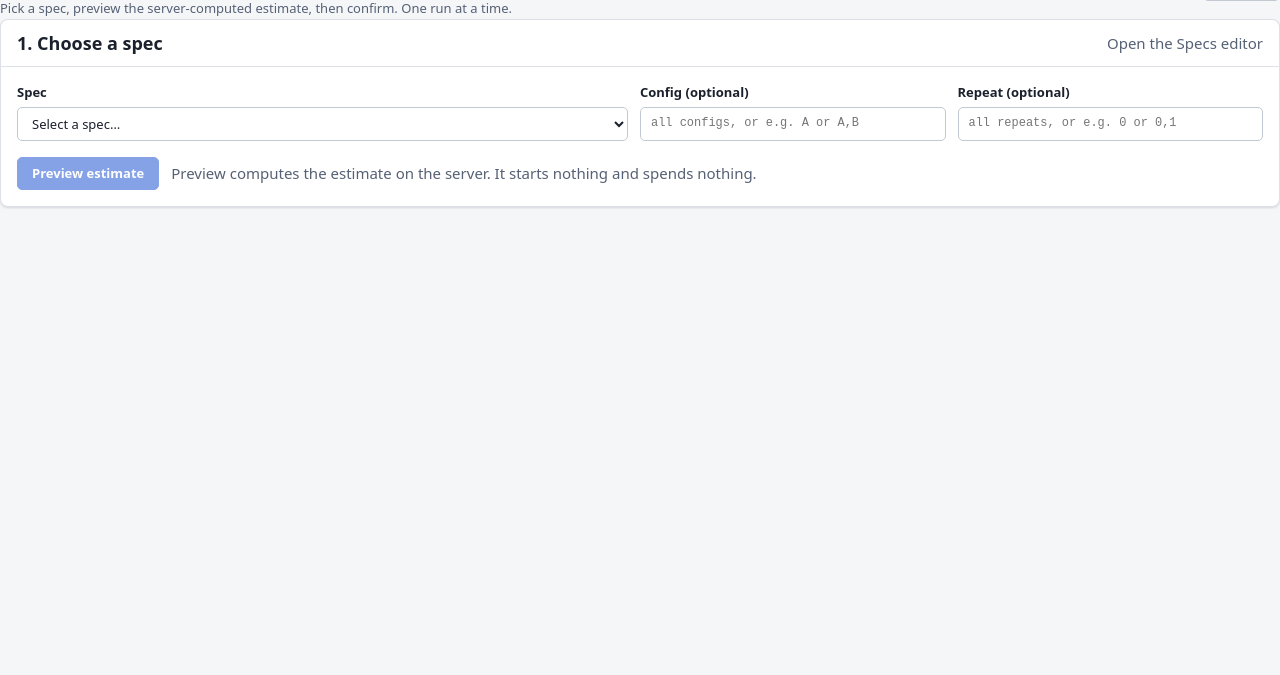
Nonce lifecycle and conflicts › expires after the countdown and requires a new preview
The image size is (1280, 675).
Select "pilot-scripted [scripted]" in the dropdown labelled "Spec" at (322, 124), box [17, 106, 628, 140]
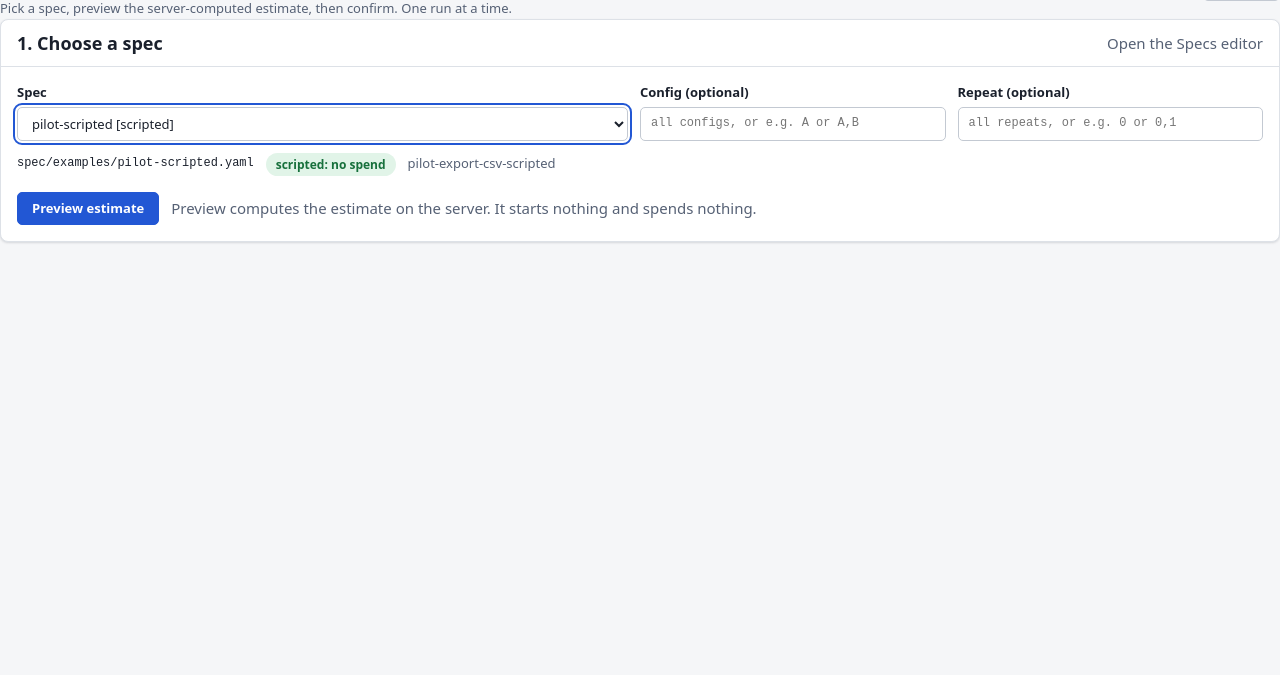
Click the button "Preview estimate" at (88, 208), box [17, 192, 159, 225]
(page scrolled)
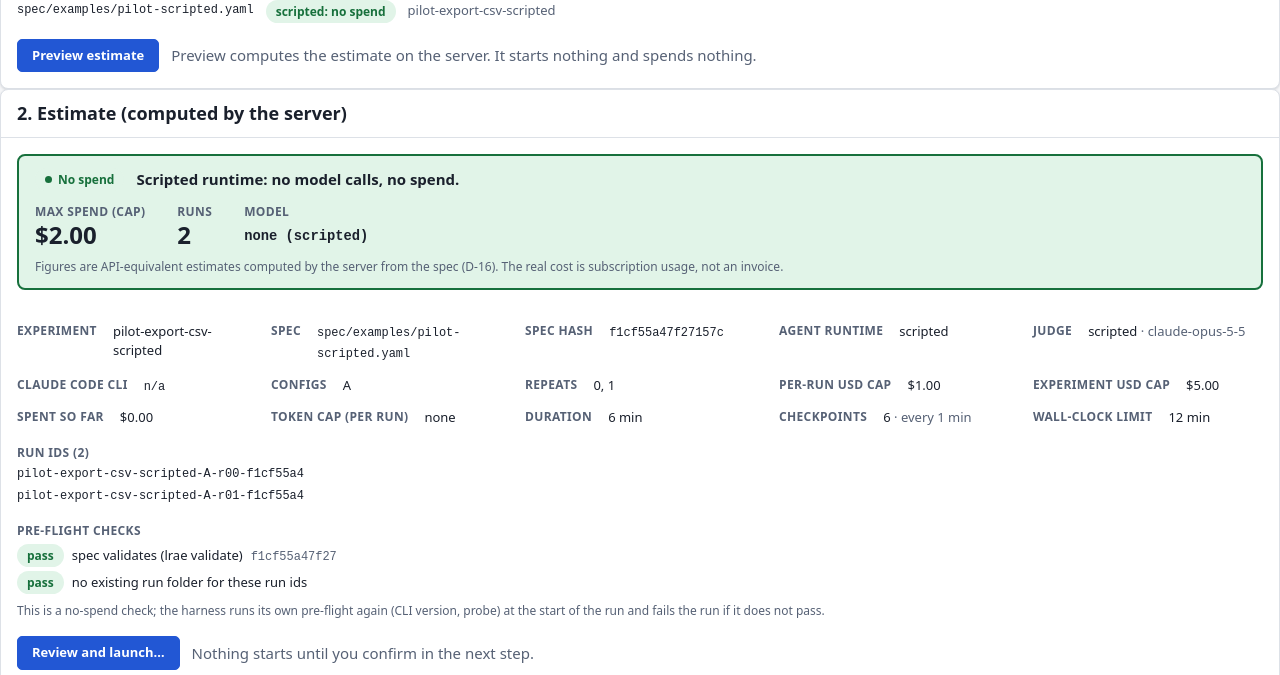
Check: the heading "2. Estimate (computed by the server)" is shown, box [17, 102, 347, 125]
Click the button "Review and launch…" at (98, 653), box [17, 636, 180, 670]
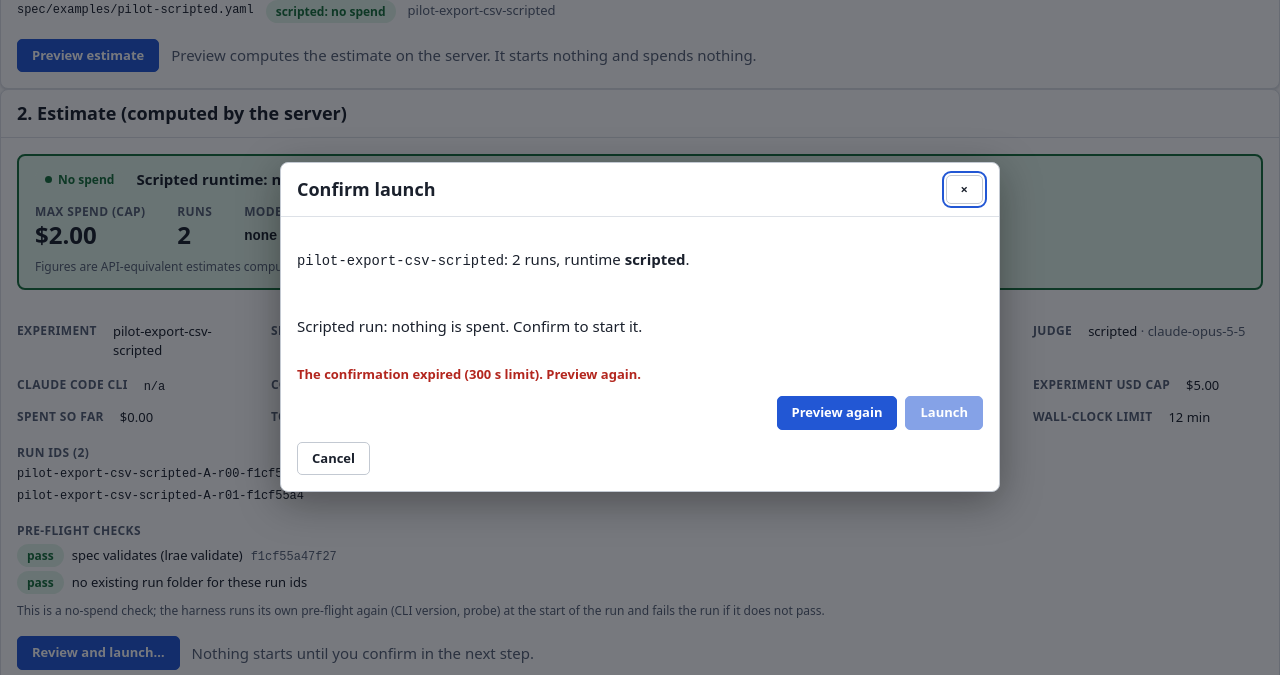
Check: the text "The confirmation expired (300 s limit). Preview again." is shown, box [297, 365, 641, 383]
Check: the button "Launch" is disabled, box [906, 396, 983, 430]
Click the button "Preview again" at (837, 413), box [776, 396, 898, 430]
(page scrolled)
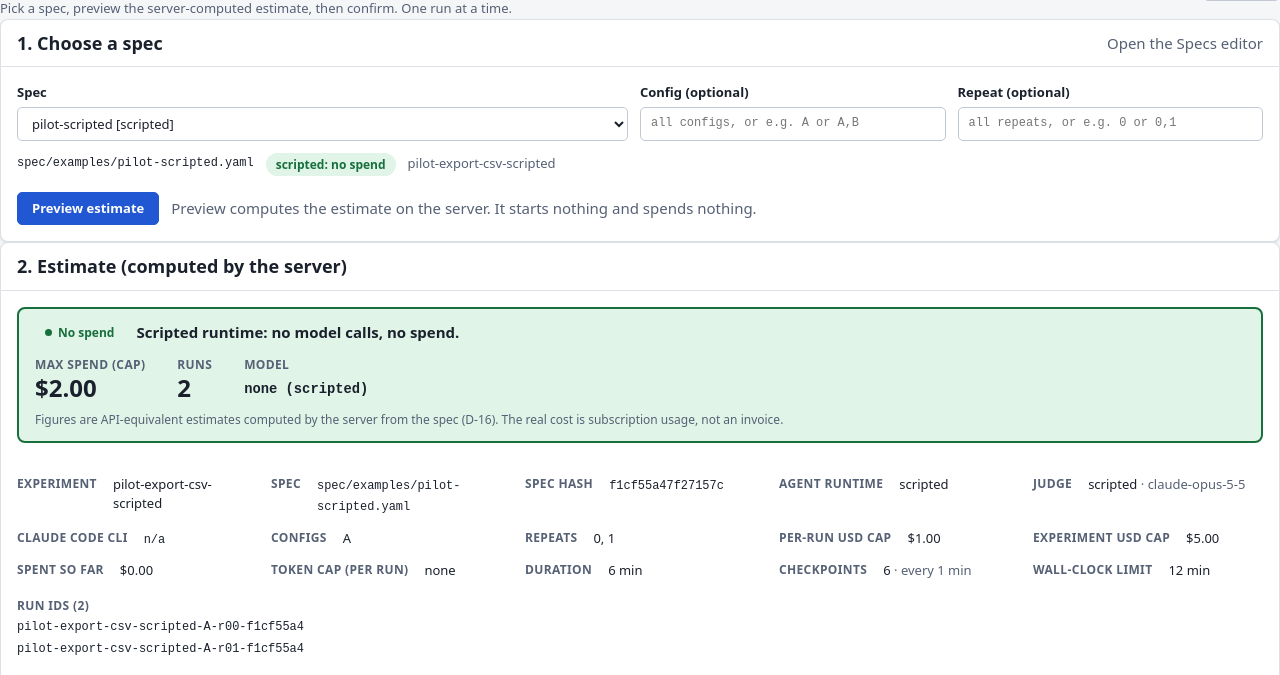
Check: the heading "2. Estimate (computed by the server)" is shown, box [17, 255, 347, 278]
Check: the dialog is gone
